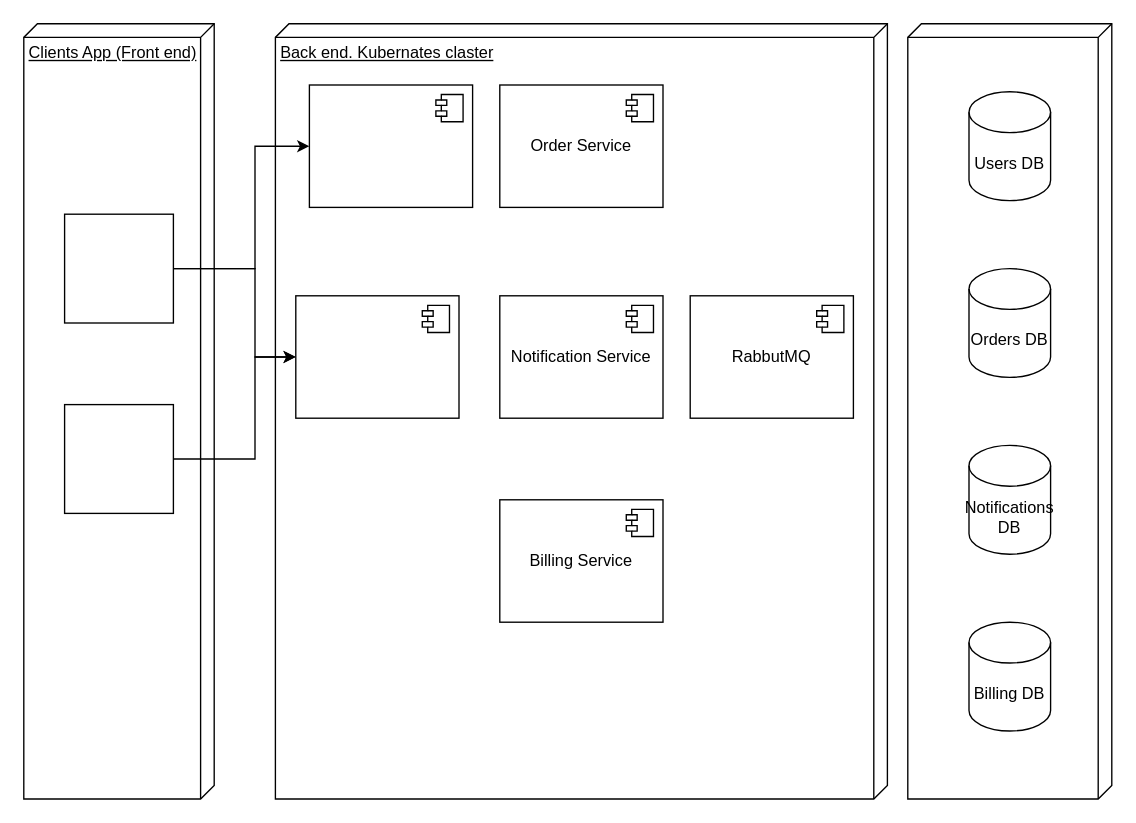
This 1136x823 diagram has some shape labels left out. The shapes that lost their labels are listed below. From the top down, each one's box as (x1, y1, x2, y2) in pixels, then its label:
(308, 84, 473, 207): Authentication Service
(63, 213, 173, 323): Mobile App
(294, 294, 459, 418): API Application Gateway
(906, 22, 1112, 799): PostgreSQL Server
(63, 403, 173, 513): SPA Web browser
